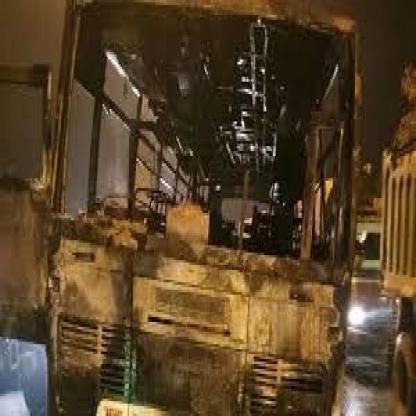other: (335, 293, 368, 335)
